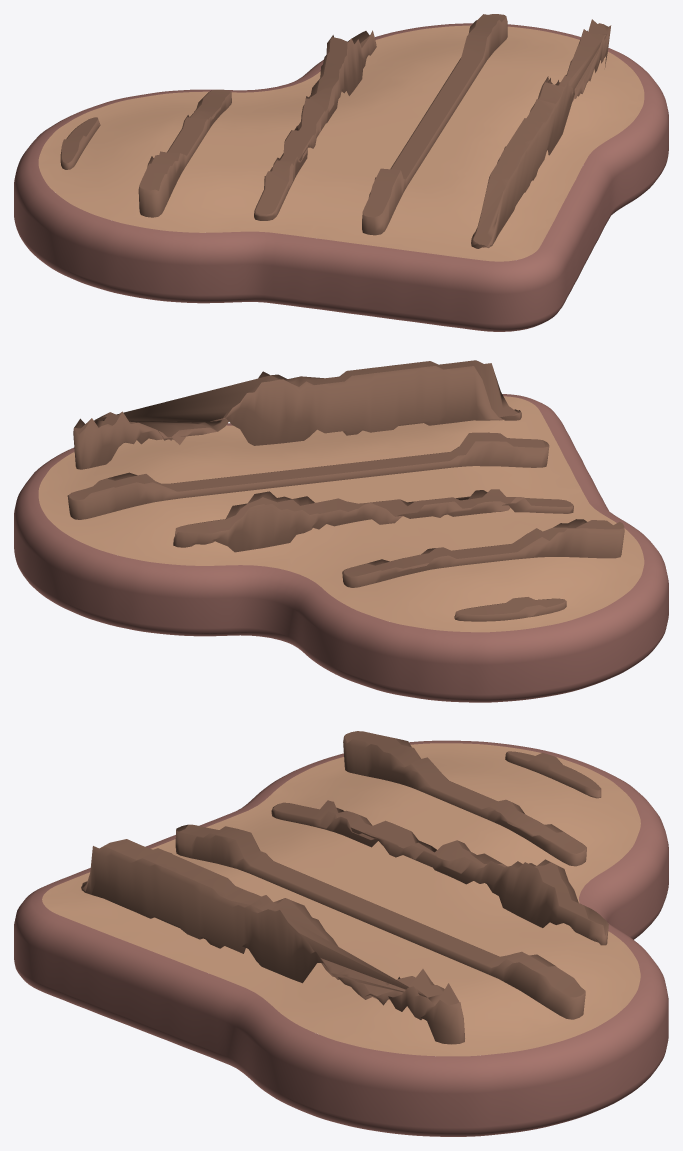
The model's file is PrimeCutHeart.glb.
The picture shows the model from 3 angles, top to bottom: view 1: azimuth 30°, elevation 25°; view 2: azimuth 150°, elevation 25°; view 3: azimuth 270°, elevation 25°; orthographic projection. The views are drawn at different scales.
Parts seen in each view (by area): view 1: Meat, Crust, Marks; view 2: Meat, Marks, Crust; view 3: Meat, Crust, Marks.
Part boxes in pixels (x1=…): Meat: x1=38, y1=25, x2=644, y2=261; Crust: x1=14, y1=23, x2=668, y2=331; Marks: x1=60, y1=14, x2=611, y2=248; Meat: x1=38, y1=396, x2=644, y2=632; Marks: x1=67, y1=360, x2=624, y2=621; Crust: x1=14, y1=394, x2=668, y2=702; Meat: x1=42, y1=743, x2=640, y2=1056; Crust: x1=14, y1=740, x2=668, y2=1136; Marks: x1=81, y1=731, x2=608, y2=1044.
Bounding box in the file's own units: 14.19 × 2.93 × 11.66.
